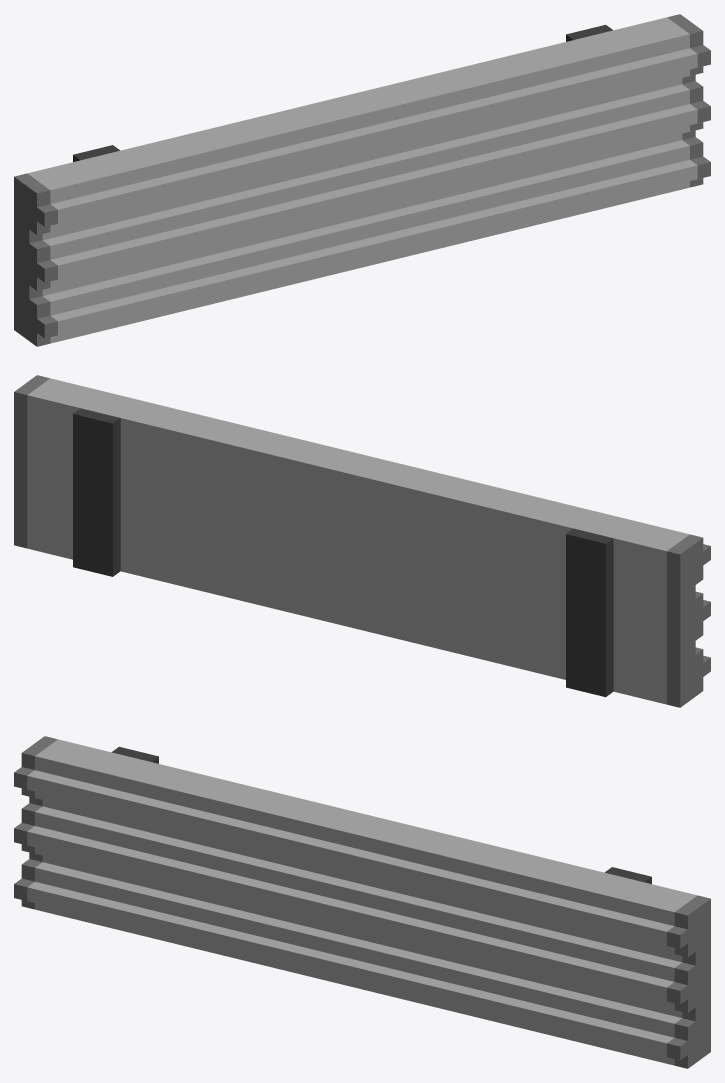
File: prop_barrier_1.obj
3 views of the same model, one above another, from view 1: azimuth 30°, elevation 25°; view 2: azimuth 150°, elevation 25°; view 3: azimuth 330°, elevation 25° (orthographic).
Size of the model in its own units: 5 by 1.1 by 0.5.
1 material, 1 textured.
